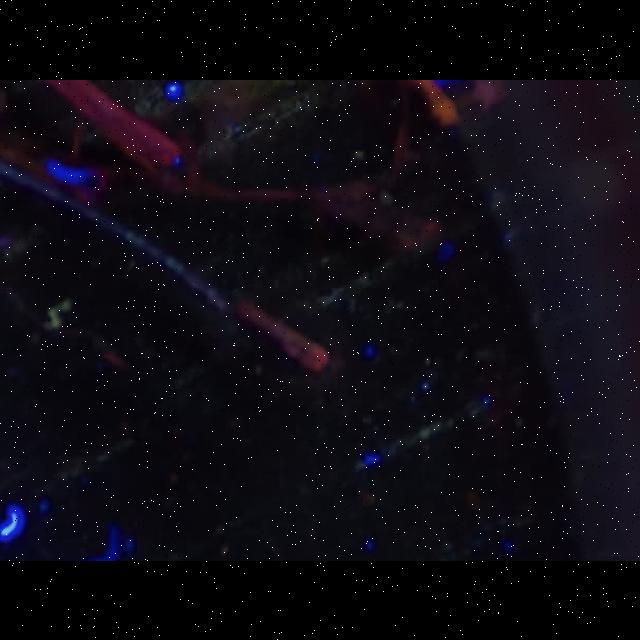Fibre: (40, 298, 74, 332)
